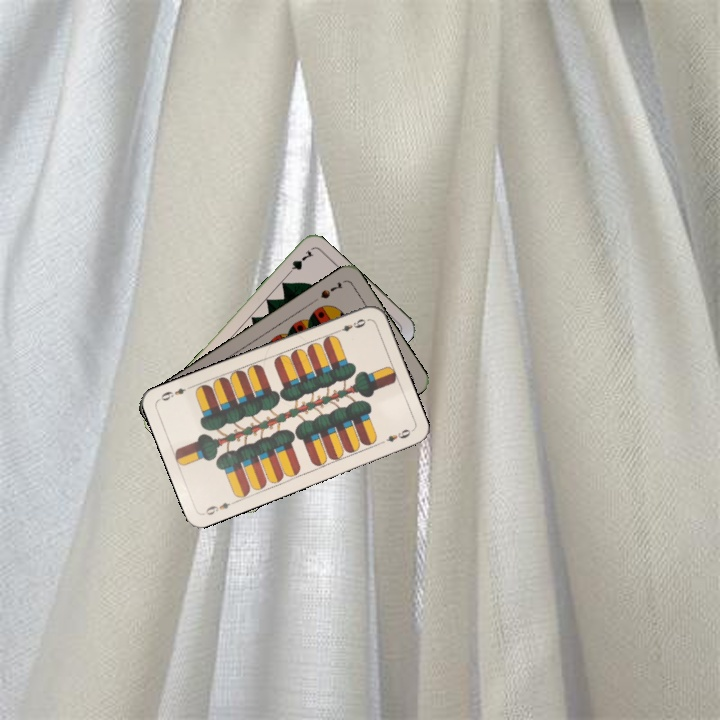E9: (332, 315, 371, 336), (200, 497, 239, 518)
G7: (282, 246, 315, 279)
S7: (316, 278, 345, 301)
